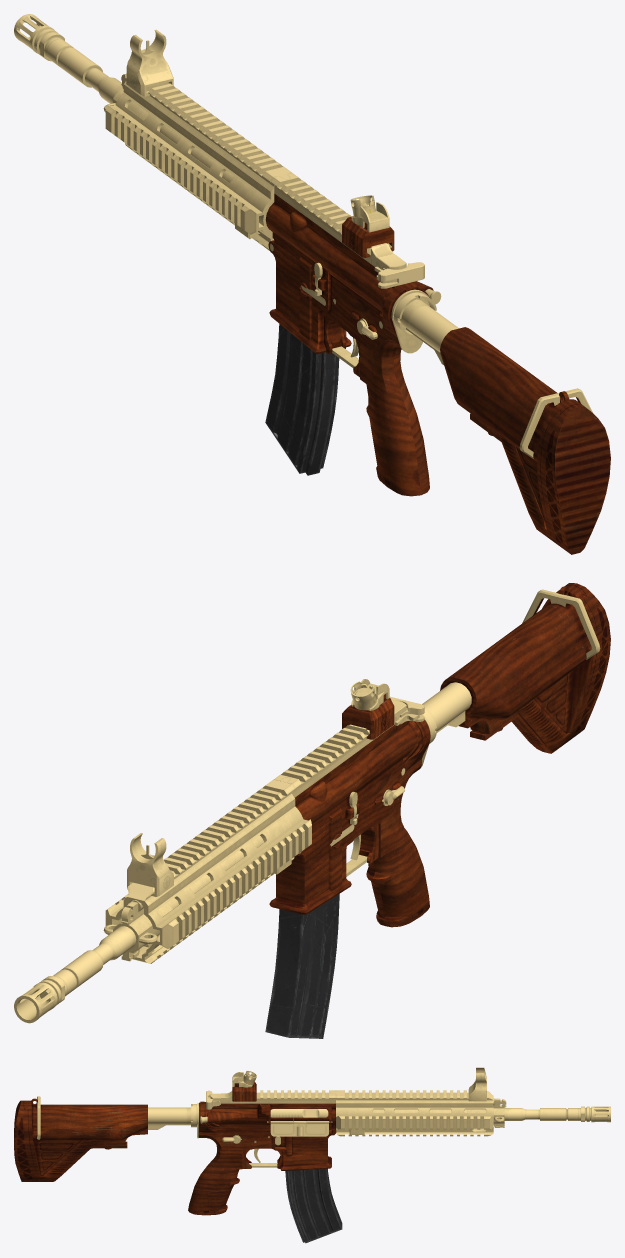
The model's file is Gun_5.fbx.
3 views of the same model, one above another, from view 1: azimuth 30°, elevation 25°; view 2: azimuth 150°, elevation 25°; view 3: azimuth 270°, elevation 25° (orthographic). The views are drawn at different scales.
Visible parts, largest first — view 1: HK416_01_MI_HK416_01_0; view 2: HK416_01_MI_HK416_01_0; view 3: HK416_01_MI_HK416_01_0.
Part boxes in pixels (left/top/right/bottom): HK416_01_MI_HK416_01_0: left=14, top=14, right=610, bottom=554; HK416_01_MI_HK416_01_0: left=14, top=583, right=610, bottom=1038; HK416_01_MI_HK416_01_0: left=14, top=1067, right=610, bottom=1243.
Bounding box in the file's own units: 59.75 × 231 × 732.
1 material, 1 textured.
